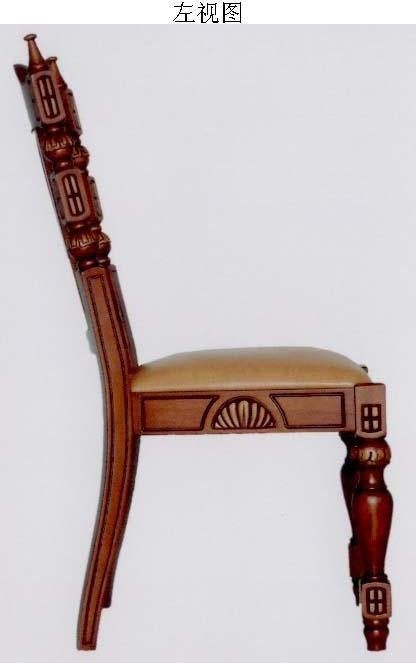obstacle: (15, 34, 391, 650)
